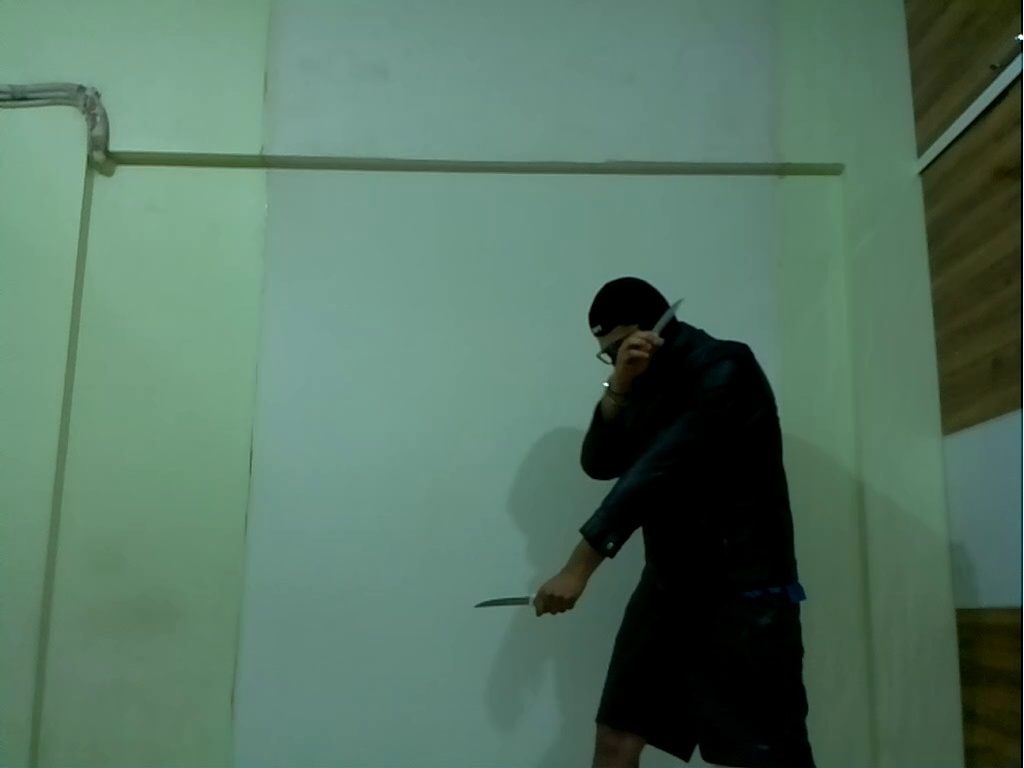knife: (470, 591, 559, 612), (655, 298, 689, 342)
